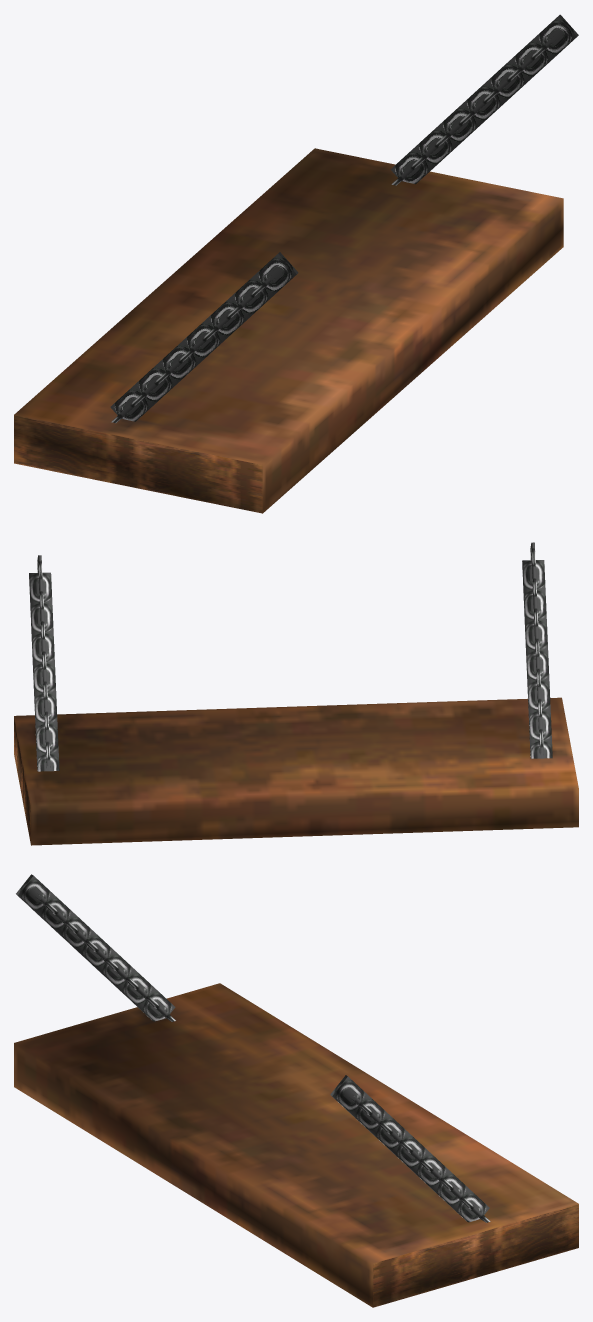
File: SWORDLIGHT20_JAILCOT02.fbx
3 views of the same model, one above another, from view 1: azimuth 30°, elevation 25°; view 2: azimuth 150°, elevation 25°; view 3: azimuth 270°, elevation 25° (orthographic). The views are drawn at different scales.
Visible parts, largest first — view 1: SWORDLIGHT20_JAILCOT02; view 2: SWORDLIGHT20_JAILCOT02; view 3: SWORDLIGHT20_JAILCOT02.
Boxes of the visible parts, left/top/right/bottom form: SWORDLIGHT20_JAILCOT02: left=14, top=14, right=578, bottom=513; SWORDLIGHT20_JAILCOT02: left=14, top=542, right=578, bottom=845; SWORDLIGHT20_JAILCOT02: left=14, top=874, right=578, bottom=1307.
Bounding box in the file's own units: 26103 × 9715 × 22214.
Materials: 2 (2 with a texture image).
